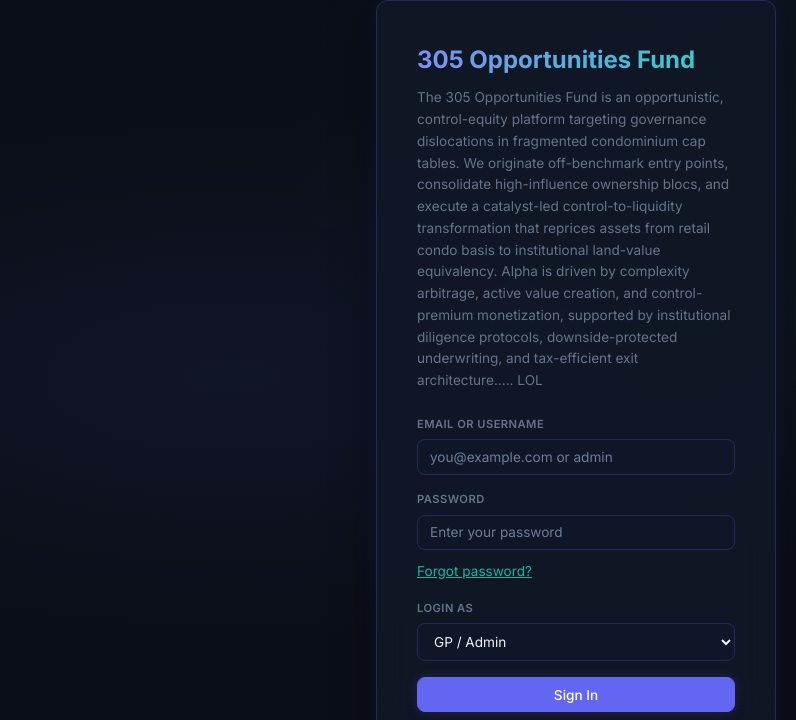
Test: Login page › shows API error message when login fails
Step 1. Type "bad" into the field with placeholder "you@example.com or admin" → (576, 457), box 417,439 -> 735,475
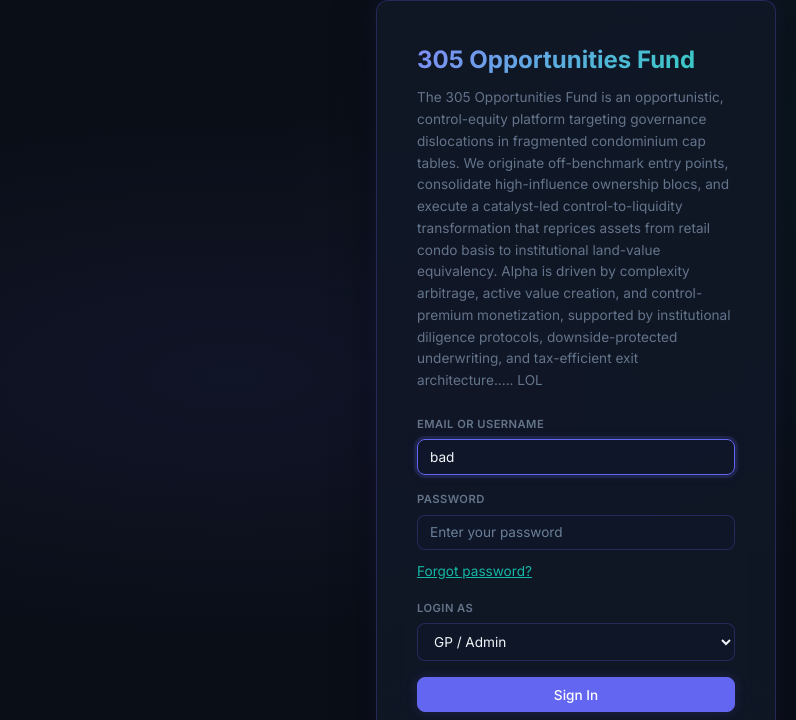
Step 2. Type "bad" into the password field with placeholder "Enter your password" → (576, 532), box 417,514 -> 735,550
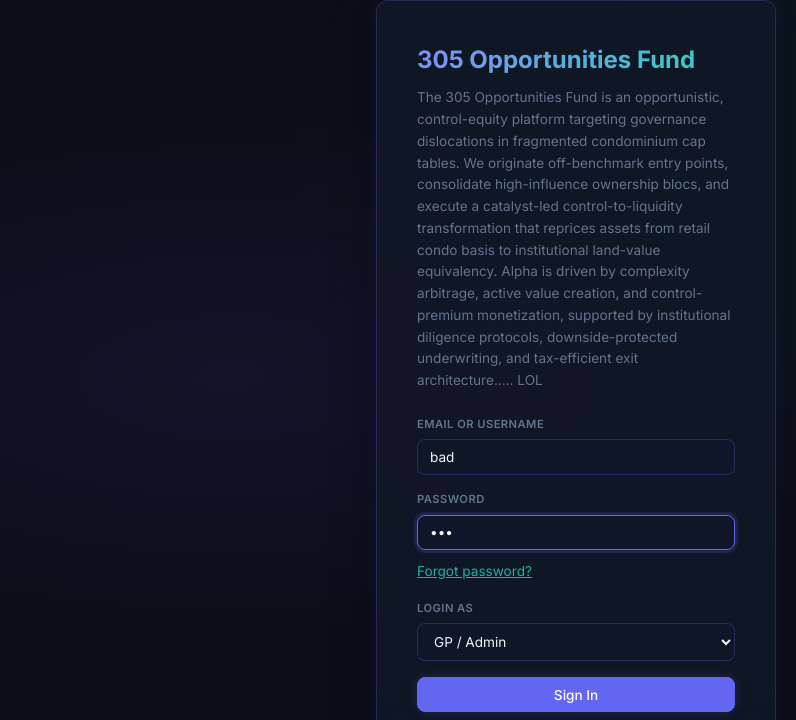
Step 3. Click the button "Sign In" → (576, 695), box 417,677 -> 735,712
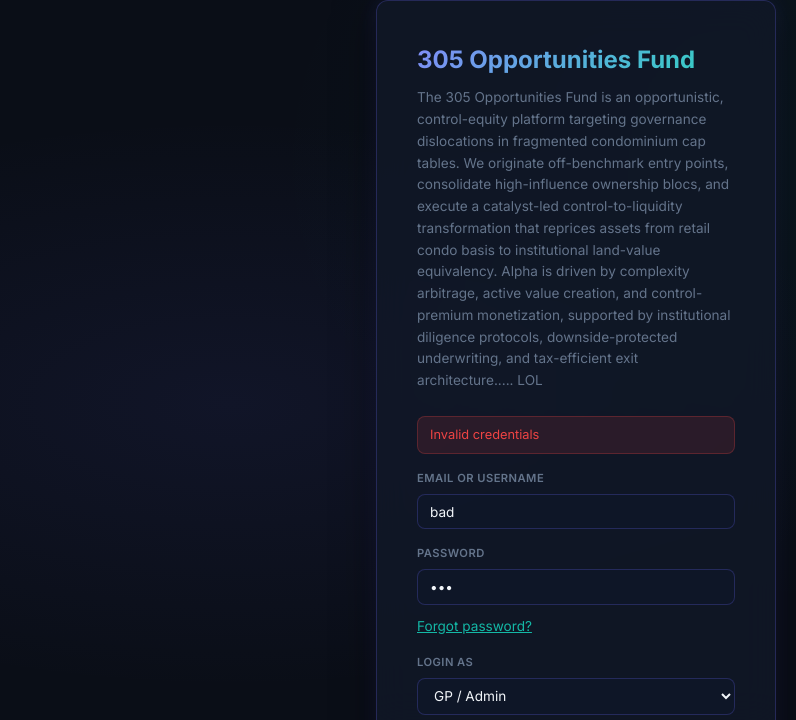
Check: the text "Invalid credentials" is shown, box 417,416 -> 735,454
